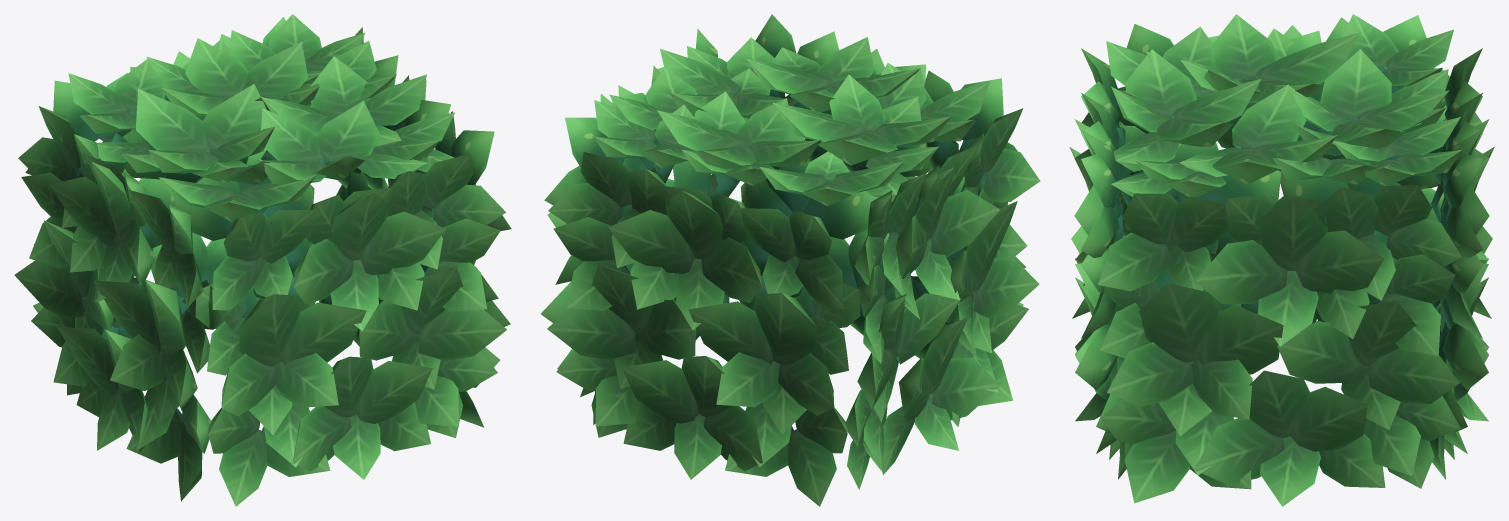
File: bush_g.FBX
The picture shows the model from 3 angles, left to right: view 1: azimuth 30°, elevation 25°; view 2: azimuth 150°, elevation 25°; view 3: azimuth 270°, elevation 25°; orthographic projection. The views are drawn at different scales.
Parts seen in each view (by area): view 1: Box262; view 2: Box262; view 3: Box262.
Boxes of the visible parts, left/top/right/bottom form: Box262: left=14, top=14, right=511, bottom=506; Box262: left=541, top=14, right=1040, bottom=506; Box262: left=1069, top=14, right=1494, bottom=506.
Bounding box in the file's own units: 13.37 × 11.94 × 13.38.
